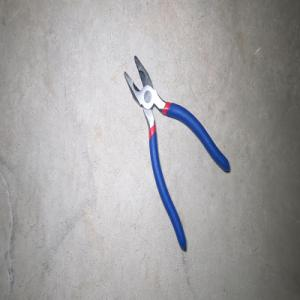Pliers: (123, 55, 230, 251)
